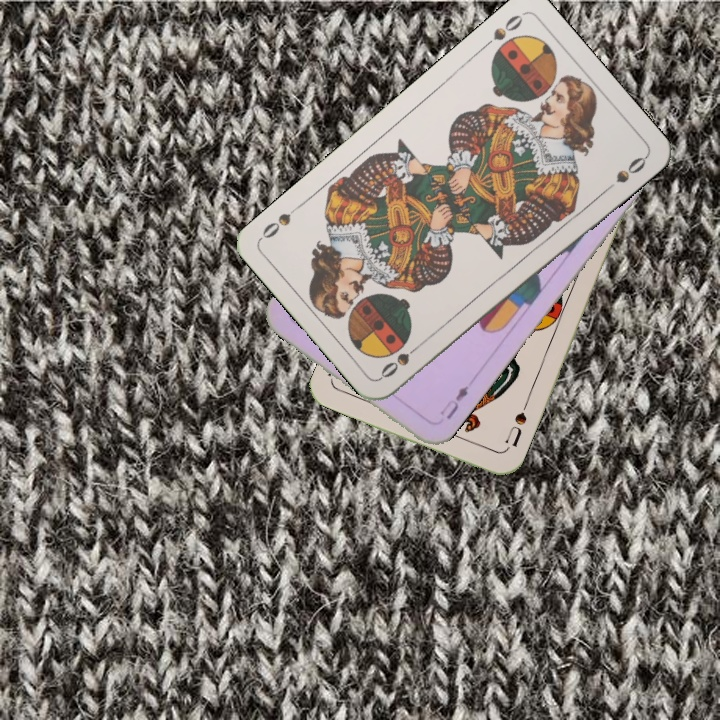EU: (436, 381, 471, 422)
SO: (376, 337, 426, 381), (477, 10, 526, 53)
SU: (501, 399, 531, 450)
